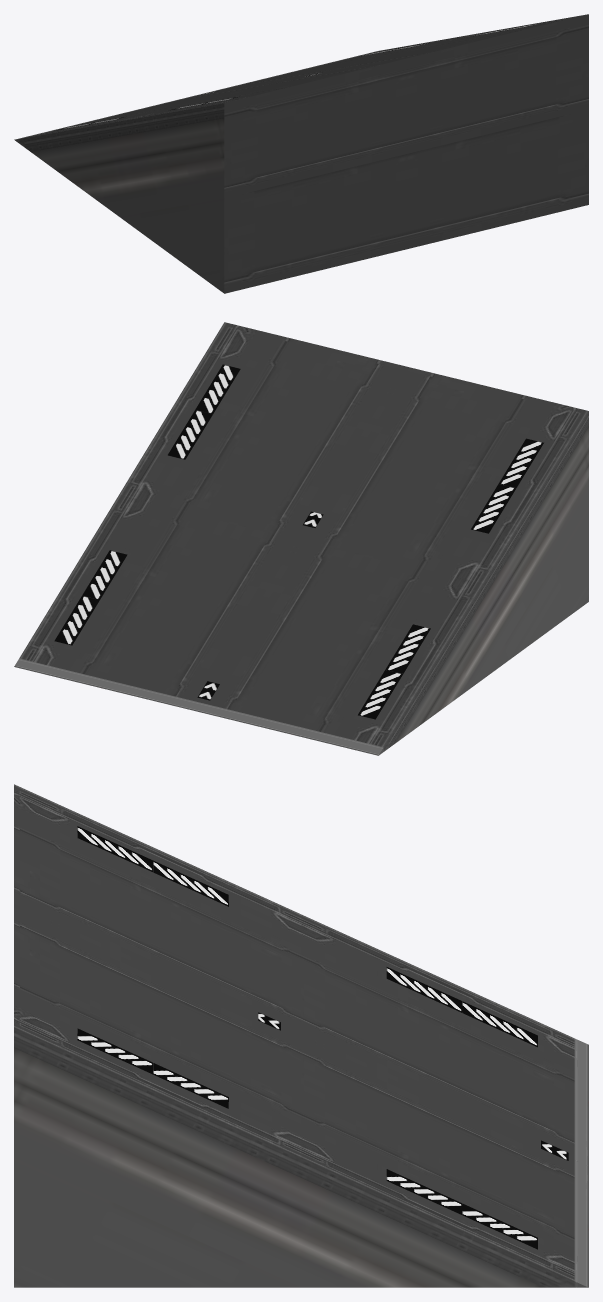
The model's file is sf_ramp_wide.glb.
3 renders of one model, top to bottom at view 1: azimuth 30°, elevation 25°; view 2: azimuth 150°, elevation 25°; view 3: azimuth 270°, elevation 25°, orthographic. The views are drawn at different scales.
Visible parts, largest first — view 1: Platform_Ramp_4Wide; view 2: Platform_Ramp_4Wide; view 3: Platform_Ramp_4Wide.
Part boxes in pixels (x1,y1,x2,y2): Platform_Ramp_4Wide: [14, 14, 588, 293]; Platform_Ramp_4Wide: [14, 322, 588, 755]; Platform_Ramp_4Wide: [14, 784, 588, 1287].
Bounding box in the file's own units: 4 × 2 × 4.
Materials: 3 (3 with a texture image).
